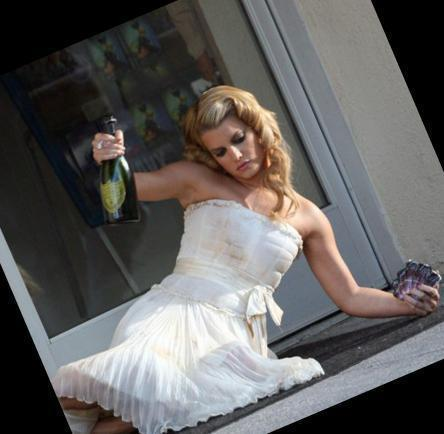Drunk: (208, 122, 259, 174)
